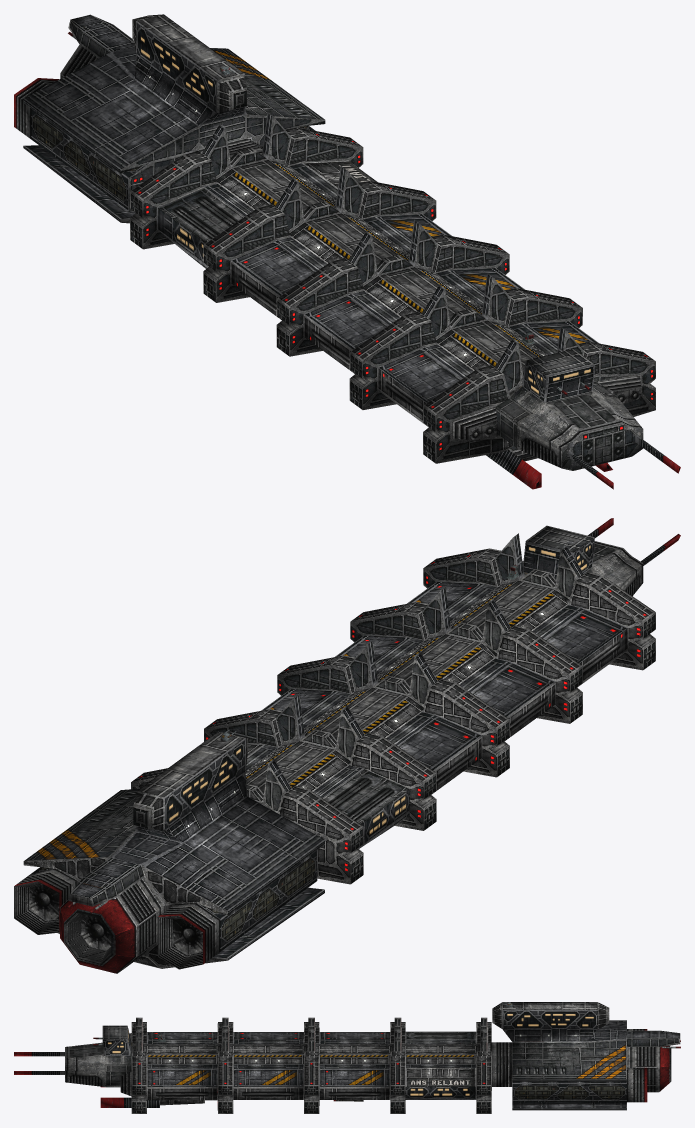
The model's file is reliant.glb.
The picture shows the model from 3 angles, top to bottom: view 1: azimuth 30°, elevation 25°; view 2: azimuth 150°, elevation 25°; view 3: azimuth 270°, elevation 25°; orthographic projection. The views are drawn at different scales.
Parts seen in each view (by area): view 1: Reliant Body, Reliant Comms, Rel torp target 1, Reliant Eng, Rel torp target 2, Rel top dr 6, Rel top dr 2, Rel top dr 4, Reliant shld gen; view 2: Reliant Body, Reliant Eng, Rel torp target 1, Rel torp target 2, Rel top dr 4, Rel top dr 6, Rel top dr 2, Reliant Comms; view 3: Reliant Body, Reliant Eng, Reliant Comms, Rel top dr 5, Rel top dr 3, Rel top dr 1, Rel torp target 2, Reliant shld gen, Rel top dr 6, Rel top dr 4, Rel top dr 2.
Boxes of the visible parts, x1,y1,x2,y2 form: Reliant Body: (23,14,655,470); Reliant Comms: (517,391,680,489); Rel torp target 1: (423,365,510,437); Reliant Eng: (14,14,134,138); Rel torp target 2: (370,181,456,273); Rel top dr 6: (238,245,315,294); Rel top dr 2: (385,352,461,401); Rel top dr 4: (311,298,388,348); Reliant shld gen: (486,446,612,489); Reliant Body: (23,525,655,968); Reliant Eng: (14,857,220,973); Rel torp target 1: (569,571,655,649); Rel torp target 2: (204,640,378,744); Rel top dr 4: (471,666,547,715); Rel top dr 6: (398,719,474,768); Rel top dr 2: (544,612,620,661); Reliant Comms: (522,518,680,595); Reliant Body: (65,1002,626,1113); Reliant Eng: (627,1029,680,1102); Reliant Comms: (14,1052,105,1086); Rel top dr 5: (324,1069,385,1085); Rel top dr 3: (238,1069,298,1085); Rel top dr 1: (152,1070,212,1085); Rel torp target 2: (304,1031,405,1085); Reliant shld gen: (100,1086,204,1107); Rel top dr 6: (324,1032,385,1039); Rel top dr 4: (238,1032,298,1039); Rel top dr 2: (152,1032,212,1039).
Bounding box in the file's own units: 11956 × 8289 × 53303.
Materials: 8 (8 with a texture image).
